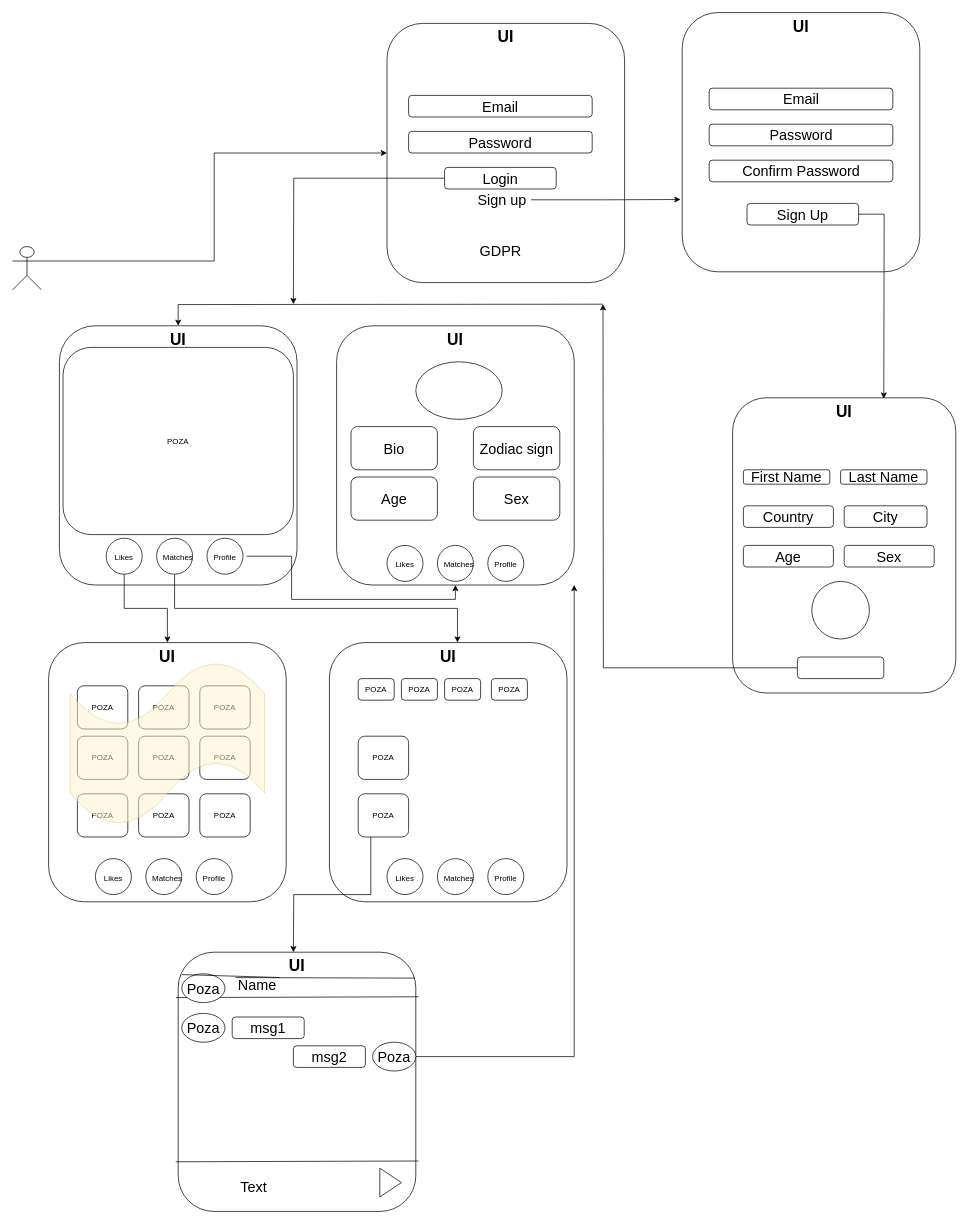
Image size: 968x1224. Some labels were removed from this diagram. The box of each missing label's shape, as (x1, y1, x2, y2) in pixels:
Actor: (12, 246, 41, 290)
Blurry if not premium: (69, 660, 265, 826)
Complete: (797, 656, 884, 679)
Picture: (415, 361, 502, 419)
Zodiac: (811, 581, 869, 639)
